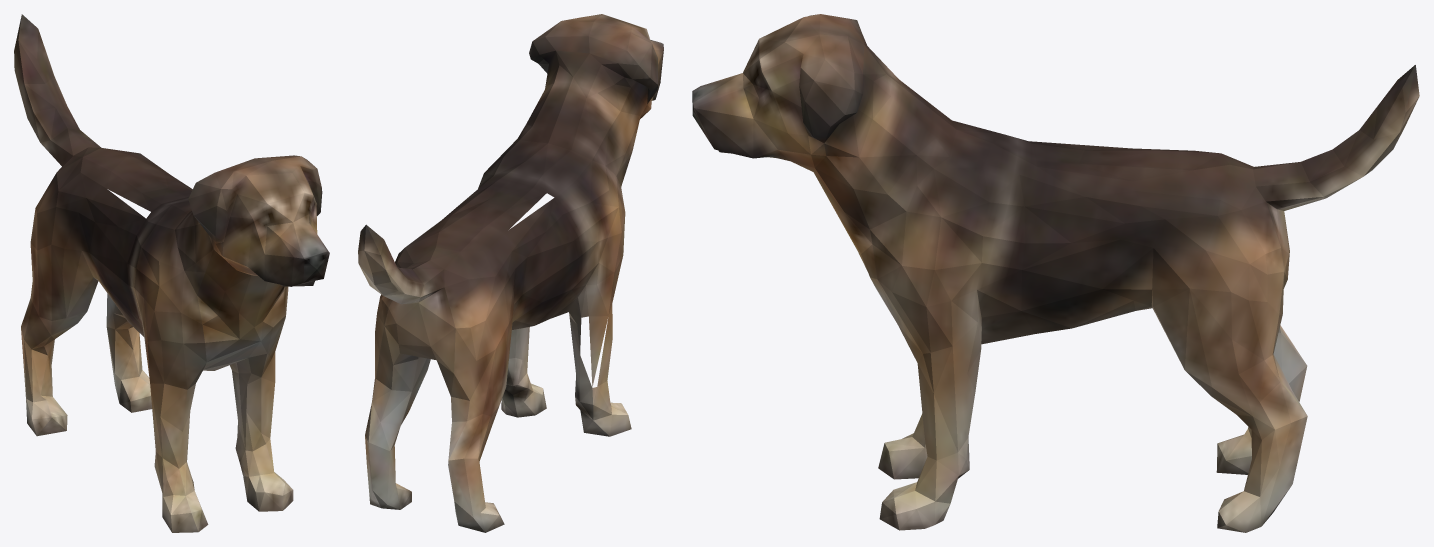
Rendered from r32_tier_hund.glb.
The picture shows the model from 3 angles, left to right: view 1: azimuth 30°, elevation 25°; view 2: azimuth 150°, elevation 25°; view 3: azimuth 270°, elevation 25°; orthographic projection. The views are drawn at different scales.
Parts seen in each view (by area): view 1: hund; view 2: hund; view 3: hund.
Boxes of the visible parts, box(x1,y1,x2,y2) form: hund: box(14, 14, 329, 532); hund: box(358, 14, 663, 532); hund: box(692, 14, 1419, 532).
Bounding box in the file's own units: 0.3622 × 1 × 1.42.
1 material, 1 textured.
